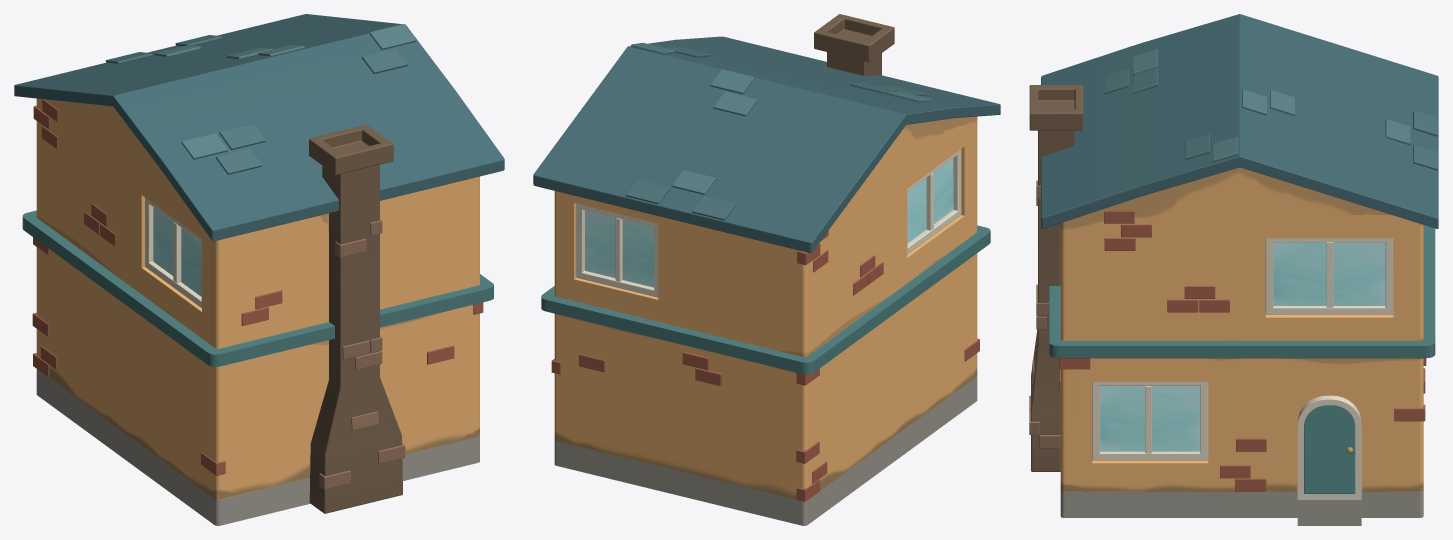
The model's file is House_03.fbx.
3 views of the same model, side by side, from view 1: azimuth 30°, elevation 25°; view 2: azimuth 150°, elevation 25°; view 3: azimuth 270°, elevation 25° (orthographic). The views are drawn at different scales.
Parts seen in each view (by area): view 1: House_01.002, Roof_01.002, Chimney_01.002, Roof tiles_01.002, House bricks_01.002, Chimney bricks_01.002, Windows_01.002; view 2: House_01.002, Roof_01.002, Roof tiles_01.002, Windows_01.002, House bricks_01.002, Chimney_01.002; view 3: House_01.002, Roof_01.002, Chimney_01.002, Windows_01.002, Roof tiles_01.002, House bricks_01.002, Door_01.002, Chimney bricks_01.002.
Part boxes in pixels (box(x1,y1,x2,y2)): House_01.002: box(22, 98, 493, 525); Roof_01.002: box(14, 14, 504, 241); Chimney_01.002: box(309, 124, 402, 513); Roof tiles_01.002: box(105, 24, 416, 174); House bricks_01.002: box(32, 99, 483, 475); Chimney bricks_01.002: box(319, 219, 405, 489); Windows_01.002: box(145, 197, 201, 308); House_01.002: box(541, 116, 990, 525); Roof_01.002: box(533, 36, 1000, 252); Roof tiles_01.002: box(625, 43, 931, 220); Windows_01.002: box(576, 149, 961, 297); House bricks_01.002: box(551, 231, 979, 501); Chimney_01.002: box(814, 14, 894, 75); House_01.002: box(1049, 167, 1435, 525); Roof_01.002: box(1041, 14, 1438, 228); Chimney_01.002: box(1029, 85, 1083, 471); Windows_01.002: box(1092, 238, 1393, 460); Roof tiles_01.002: box(1104, 49, 1438, 170); House bricks_01.002: box(1059, 210, 1426, 491); Door_01.002: box(1304, 405, 1355, 493); Chimney bricks_01.002: box(1029, 180, 1060, 448).
Bounding box in the file's own units: 780 × 935 × 937.
